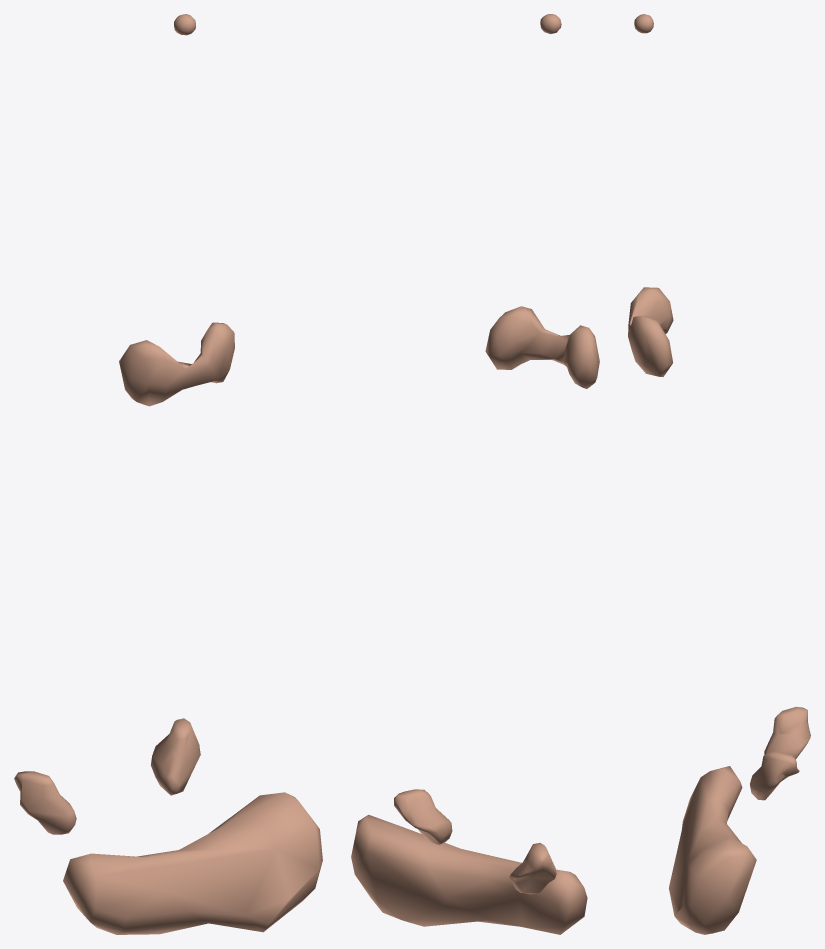
File: pediatric_adolescent_female.endocrine.LOD2.glb
3 views of the same model, side by side, from view 1: azimuth 30°, elevation 25°; view 2: azimuth 150°, elevation 25°; view 3: azimuth 270°, elevation 25° (orthographic). The views are drawn at different scales.
Visible parts, largest first — view 1: PEDIATRIC.ADOLESCENT.FEMALE.ENDOCRINE.PANCREAS, PEDIATRIC.ADOLESCENT.FEMALE.ENDOCRINE.THYROID, PEDIATRIC.ADOLESCENT.FEMALE.ENDOCRINE.ADRENAL.L, PEDIATRIC.ADOLESCENT.FEMALE.ENDOCRINE.ADRENAL.R; view 2: PEDIATRIC.ADOLESCENT.FEMALE.ENDOCRINE.PANCREAS, PEDIATRIC.ADOLESCENT.FEMALE.ENDOCRINE.THYROID, PEDIATRIC.ADOLESCENT.FEMALE.ENDOCRINE.ADRENAL.L, PEDIATRIC.ADOLESCENT.FEMALE.ENDOCRINE.ADRENAL.R; view 3: PEDIATRIC.ADOLESCENT.FEMALE.ENDOCRINE.PANCREAS, PEDIATRIC.ADOLESCENT.FEMALE.ENDOCRINE.THYROID, PEDIATRIC.ADOLESCENT.FEMALE.ENDOCRINE.ADRENAL.R, PEDIATRIC.ADOLESCENT.FEMALE.ENDOCRINE.ADRENAL.L.
Boxes of the visible parts, x1=… form: PEDIATRIC.ADOLESCENT.FEMALE.ENDOCRINE.PANCREAS: x1=63, y1=792, x2=322, y2=934; PEDIATRIC.ADOLESCENT.FEMALE.ENDOCRINE.THYROID: x1=119, y1=322, x2=234, y2=406; PEDIATRIC.ADOLESCENT.FEMALE.ENDOCRINE.ADRENAL.L: x1=151, y1=718, x2=200, y2=795; PEDIATRIC.ADOLESCENT.FEMALE.ENDOCRINE.ADRENAL.R: x1=14, y1=771, x2=76, y2=834; PEDIATRIC.ADOLESCENT.FEMALE.ENDOCRINE.PANCREAS: x1=351, y1=814, x2=587, y2=934; PEDIATRIC.ADOLESCENT.FEMALE.ENDOCRINE.THYROID: x1=485, y1=306, x2=599, y2=388; PEDIATRIC.ADOLESCENT.FEMALE.ENDOCRINE.ADRENAL.L: x1=394, y1=789, x2=452, y2=844; PEDIATRIC.ADOLESCENT.FEMALE.ENDOCRINE.ADRENAL.R: x1=509, y1=843, x2=556, y2=894; PEDIATRIC.ADOLESCENT.FEMALE.ENDOCRINE.PANCREAS: x1=669, y1=766, x2=756, y2=934; PEDIATRIC.ADOLESCENT.FEMALE.ENDOCRINE.THYROID: x1=628, y1=287, x2=673, y2=376; PEDIATRIC.ADOLESCENT.FEMALE.ENDOCRINE.ADRENAL.R: x1=764, y1=706, x2=810, y2=759; PEDIATRIC.ADOLESCENT.FEMALE.ENDOCRINE.ADRENAL.L: x1=750, y1=751, x2=799, y2=800.
Bounding box in the file's own units: 0.1317 × 0.4815 × 0.092.
